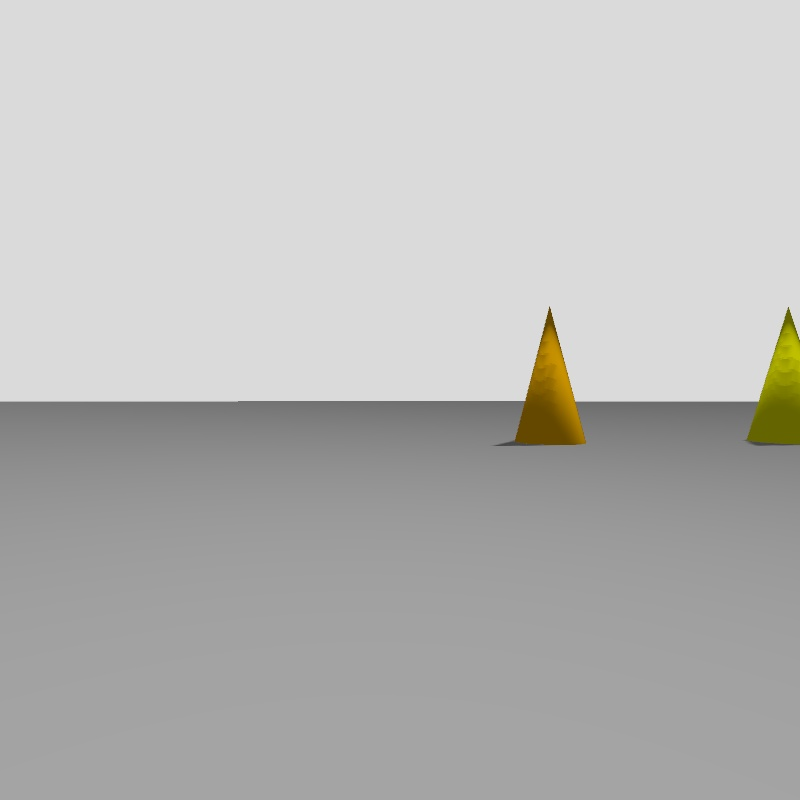Orange_cone: (513, 308, 584, 444)
Yellow_cone: (747, 308, 799, 443)
